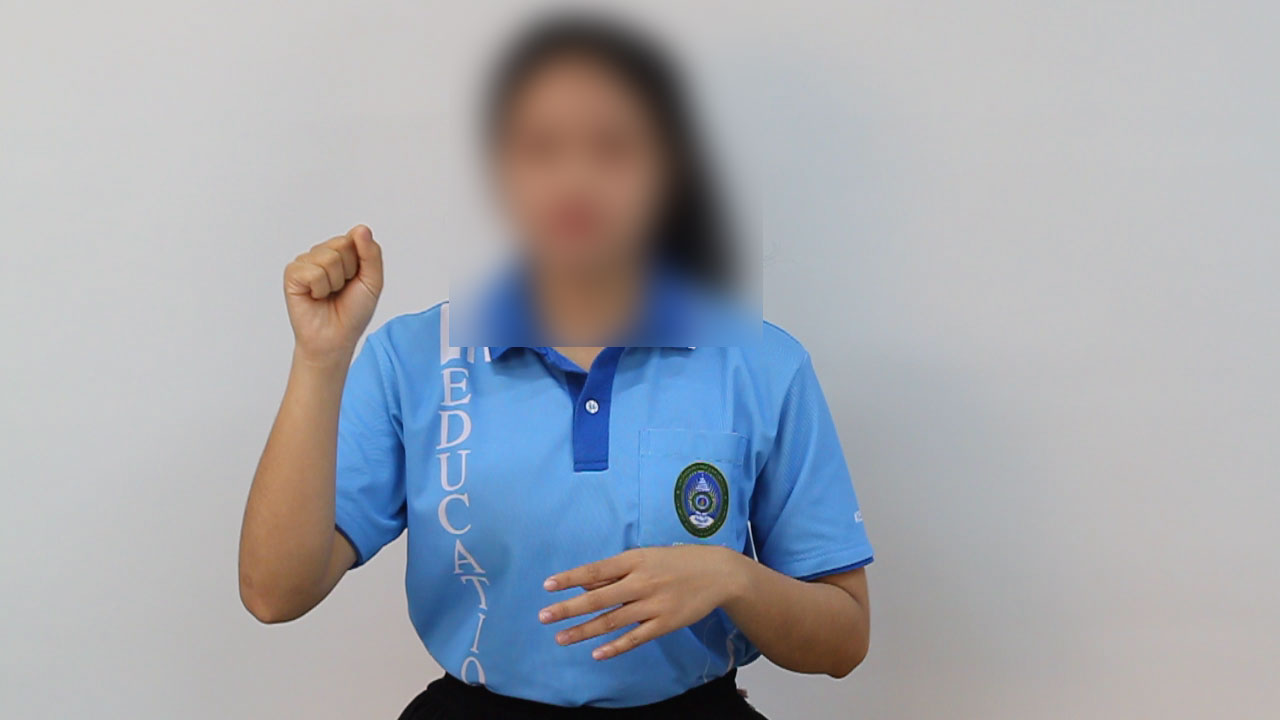sor: (270, 210, 401, 360)
